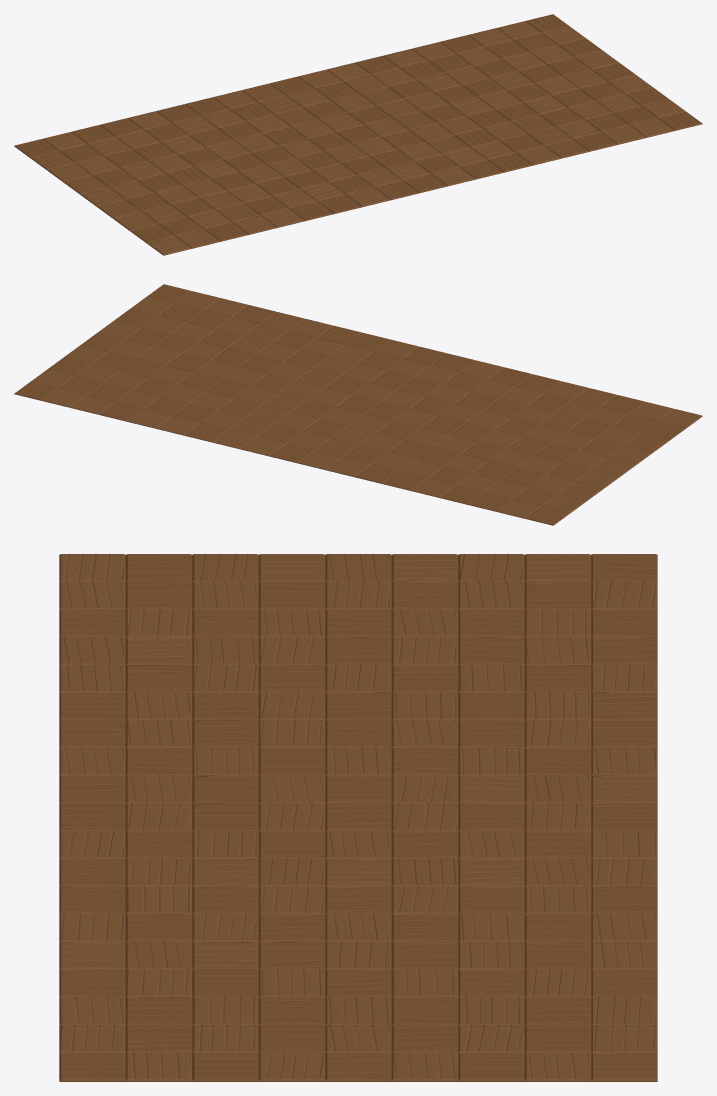
The model's file is Wood_Floor_Edge.glb.
The picture shows the model from 3 angles, top to bottom: view 1: azimuth 30°, elevation 25°; view 2: azimuth 150°, elevation 25°; view 3: azimuth 270°, elevation 25°; orthographic projection. The views are drawn at different scales.
Parts seen in each view (by area): view 1: Wood_Floor_Edge; view 2: Wood_Floor_Edge; view 3: Wood_Floor_Edge.
Part boxes in pixels (left/top/right/bottom): Wood_Floor_Edge: left=14, top=14, right=702, bottom=255; Wood_Floor_Edge: left=14, top=284, right=702, bottom=525; Wood_Floor_Edge: left=59, top=554, right=657, bottom=1081.
Size of the model in its own units: 6.4 by 0.012 by 3.07.
